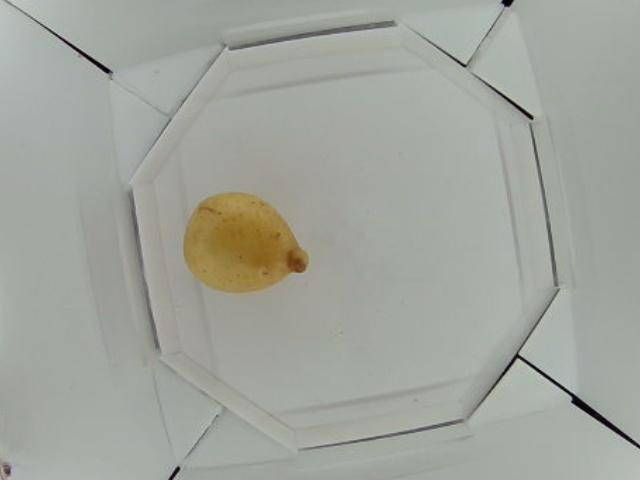Potato: (184, 192, 312, 297)
